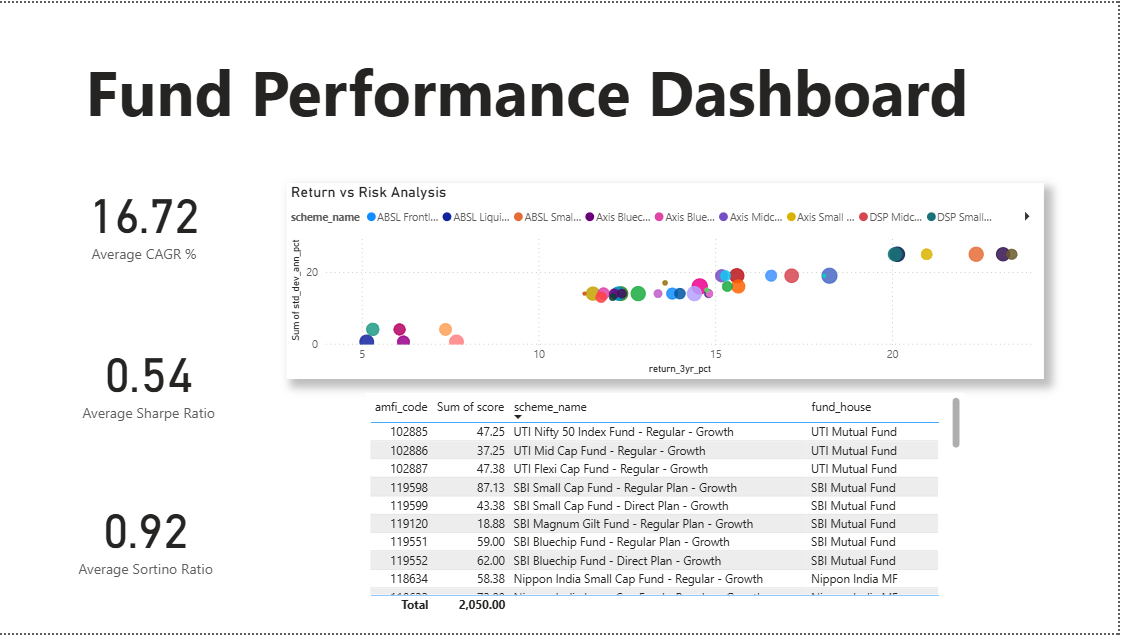

The page's visual inventory and layout, read from the dashboard file:
{"tool":"powerbi","page":{"name":"Fund Performance","canvas":[1280,720],"ordinal":1},"visuals":[{"type":"textbox","box":[13.7,46.7,1251.5,159.2],"z":0},{"type":"card","fields":{"Values":["Avg(cagr_report.cagr_pct)"]},"box":[13.7,189.4,303.3,115.3],"z":1000},{"type":"card","fields":{"Values":["Avg(sharpe_values.sharpe_ratio)"]},"box":[26.1,359.5,290.9,138.6],"z":2000},{"type":"card","fields":{"Values":["Avg(sortino_values.sortino_ratio)"]},"box":[43.9,539.3,247,138.6],"z":3000},{"type":"scatterChart","title":"Return vs Risk Analysis","fields":{"X":["07_performance_clean.return_3yr_pct"],"Y":["Sum(07_performance_clean.std_dev_ann_pct)"],"Size":["Sum(07_performance_clean.aum_crore)"],"Series":["07_performance_clean.scheme_name"]},"box":[328,205.8,865.9,223.7],"z":4000},{"type":"tableEx","fields":{"Values":["fund_scorecard.amfi_code","Sum(fund_scorecard.score)","07_performance_clean.scheme_name","07_performance_clean.fund_house"]},"box":[418.5,446,684.7,256.6],"z":4001}]}

Visuals, with their boxes in screenshot pixels (x1, y1, x2, y2), scaled from the page's 1280x720 canvas onto the 1122x635 screenshot:
textbox: bbox=(12, 41, 1109, 182)
card - Avg(cagr_report.cagr_pct): bbox=(12, 167, 278, 269)
card - Avg(sharpe_values.sharpe_ratio): bbox=(23, 317, 278, 439)
card - Avg(sortino_values.sortino_ratio): bbox=(38, 476, 255, 598)
"Return vs Risk Analysis" scatterChart: bbox=(288, 182, 1047, 379)
tableEx - fund_scorecard.amfi_code x Sum(fund_scorecard.score): bbox=(367, 393, 967, 620)
